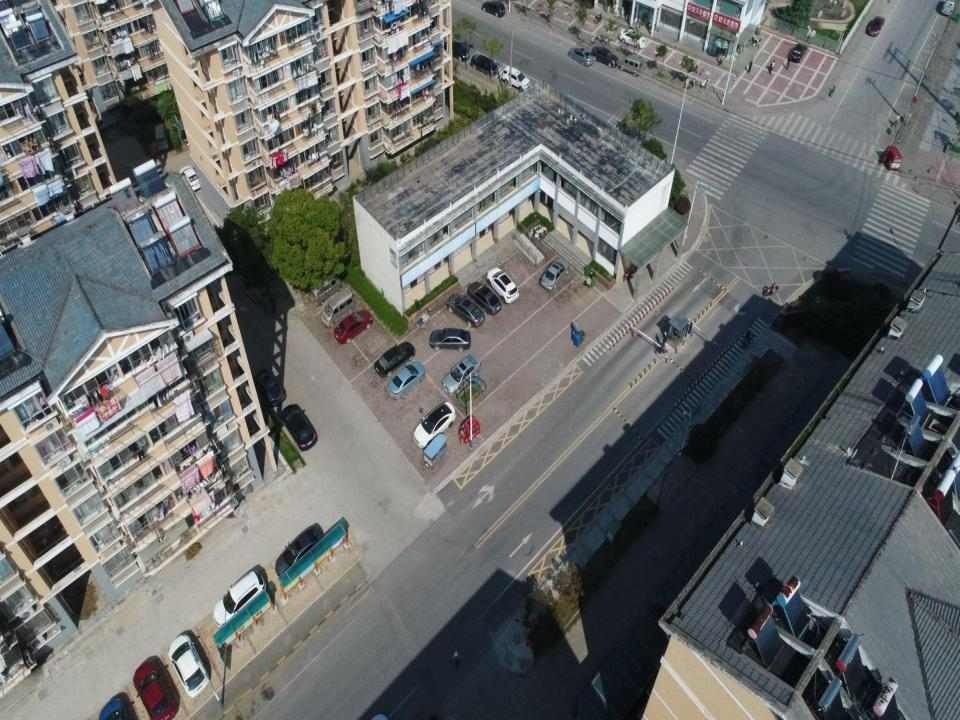car: (212, 565, 269, 632), (168, 630, 213, 702), (275, 521, 325, 584), (132, 656, 178, 720), (413, 402, 456, 448), (281, 404, 317, 452), (442, 353, 481, 396), (373, 341, 416, 378), (387, 361, 425, 400), (333, 309, 373, 345), (446, 292, 485, 328), (251, 367, 286, 406), (467, 281, 502, 316), (487, 266, 519, 304), (540, 257, 570, 291), (429, 327, 471, 351), (501, 65, 530, 93), (180, 164, 204, 193), (590, 45, 618, 69), (442, 38, 469, 62), (470, 54, 499, 76), (618, 28, 647, 49), (567, 47, 594, 67), (481, 0, 505, 18), (867, 15, 885, 37), (790, 43, 808, 63)
van: (321, 288, 357, 328), (307, 270, 344, 307), (618, 54, 643, 78), (153, 120, 169, 150), (940, 0, 956, 17)
